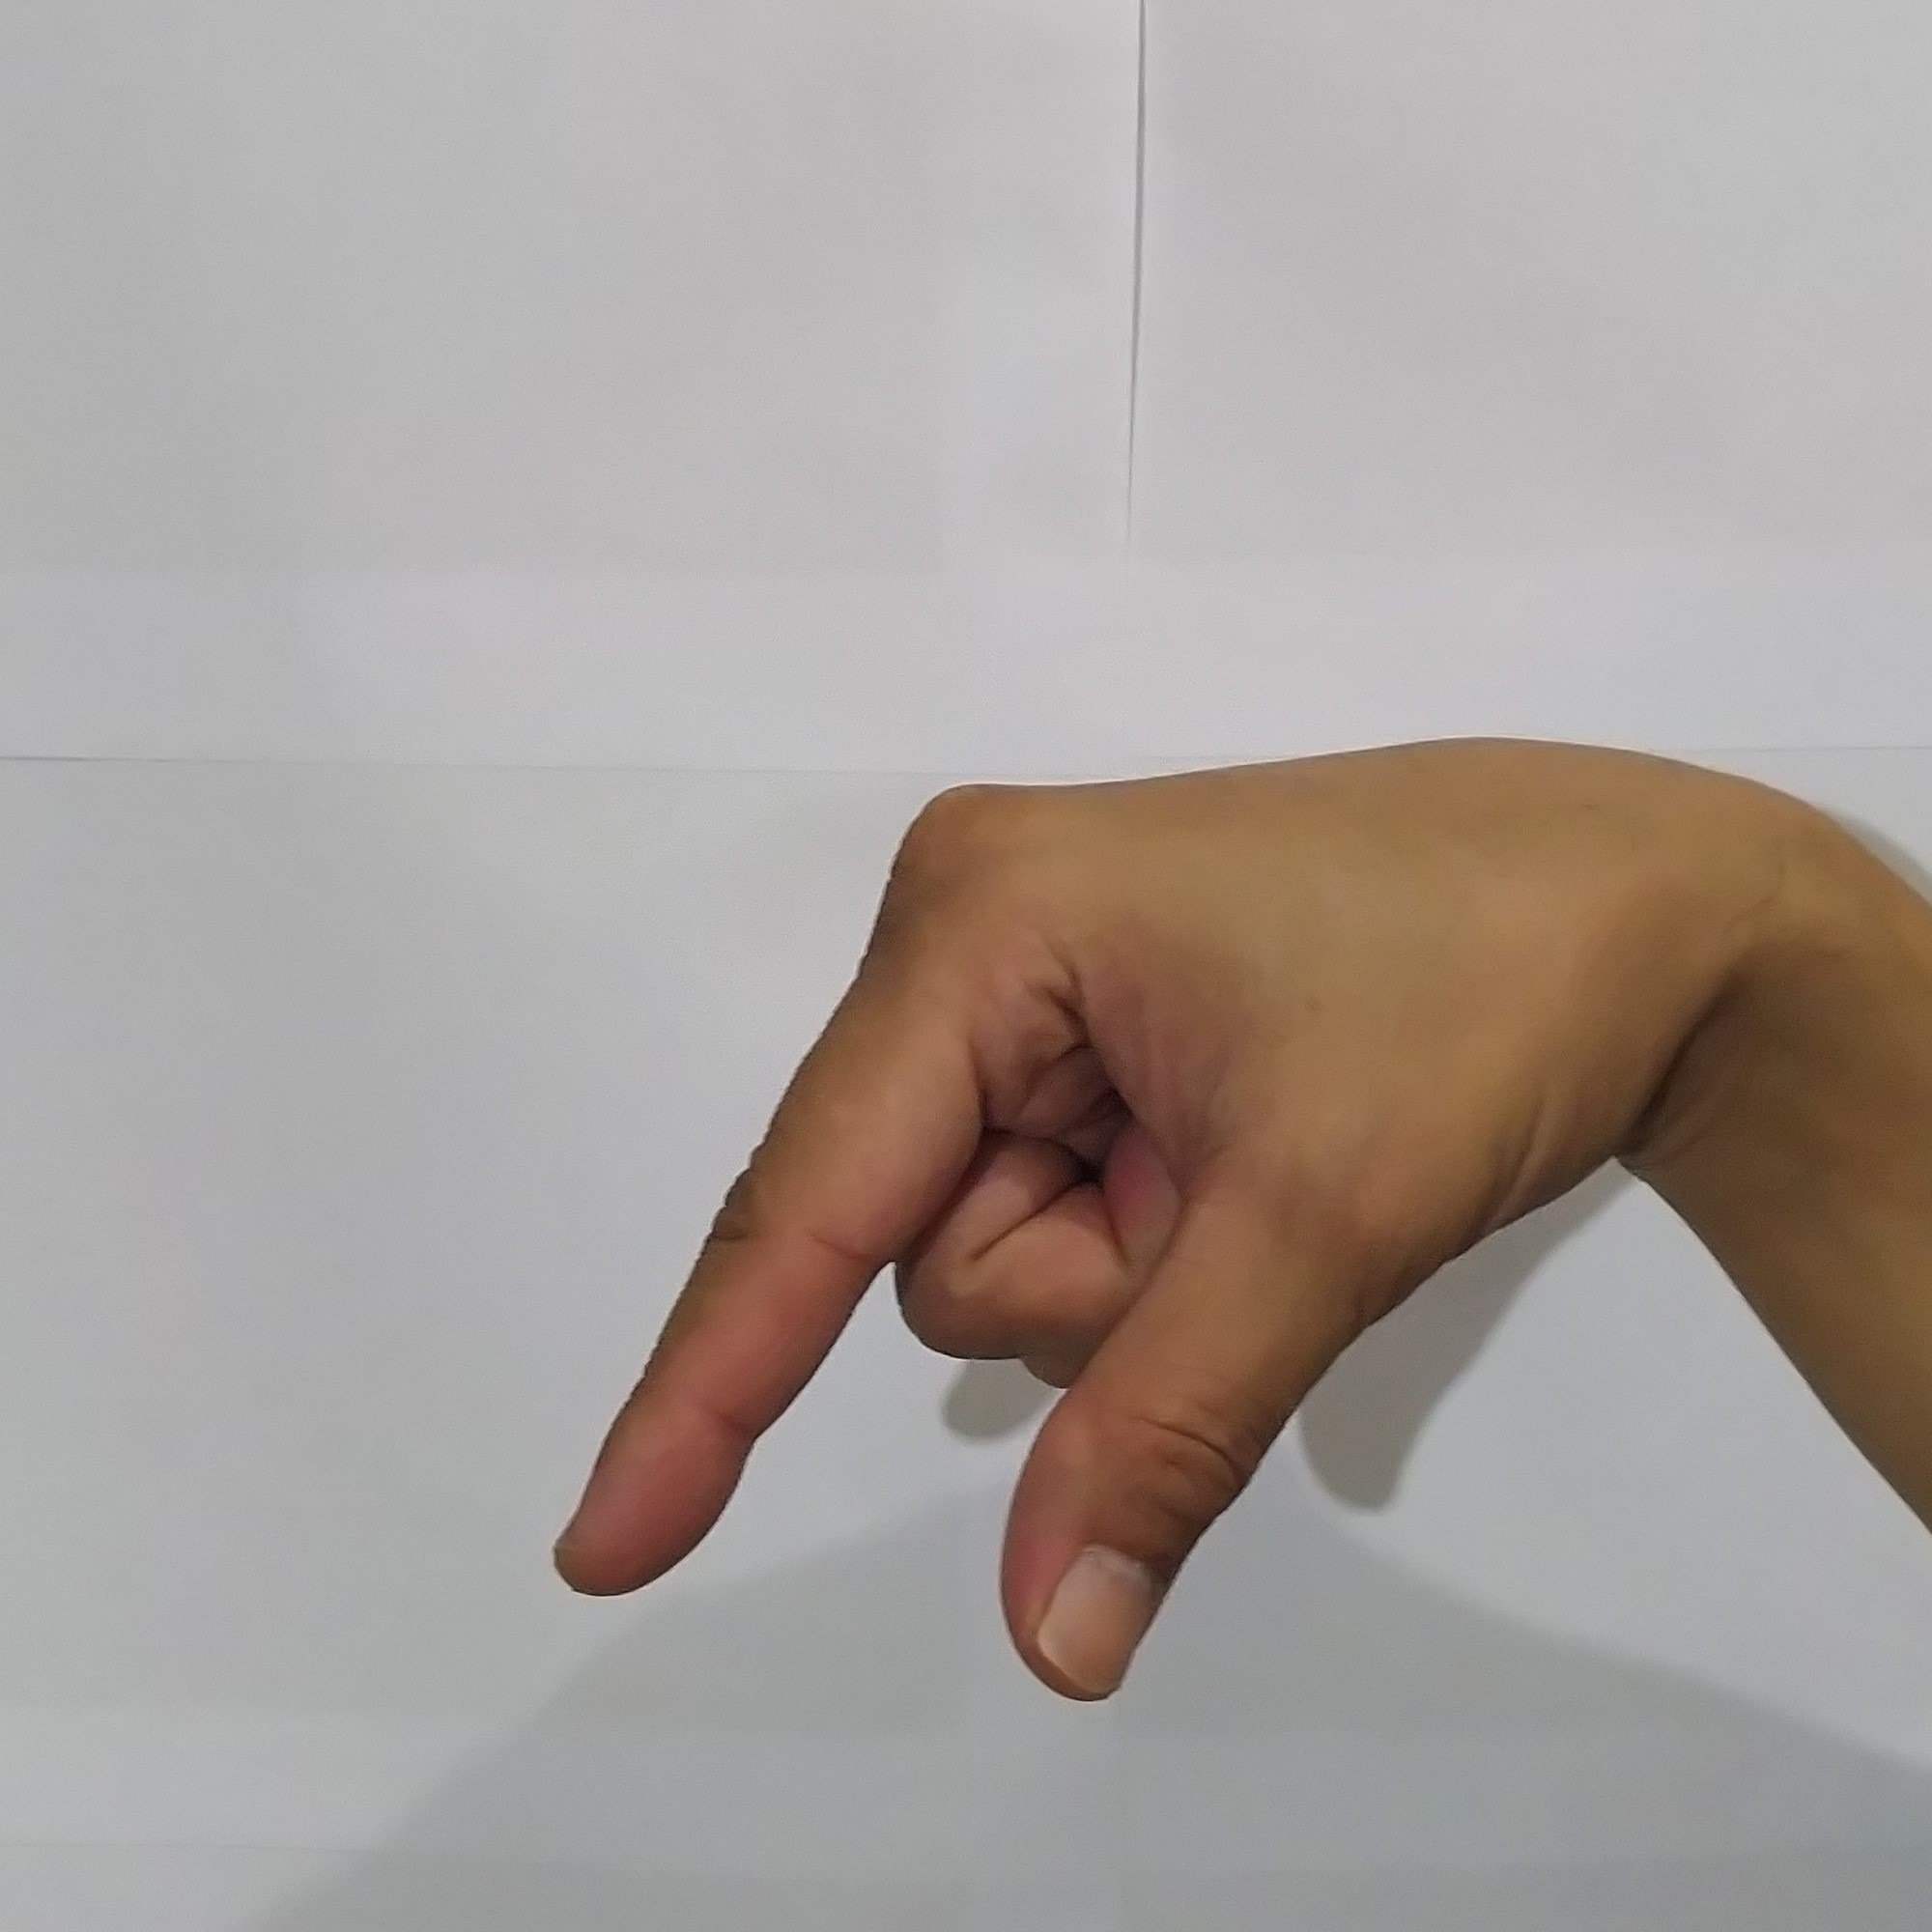Q: (513, 729, 1679, 1730)
